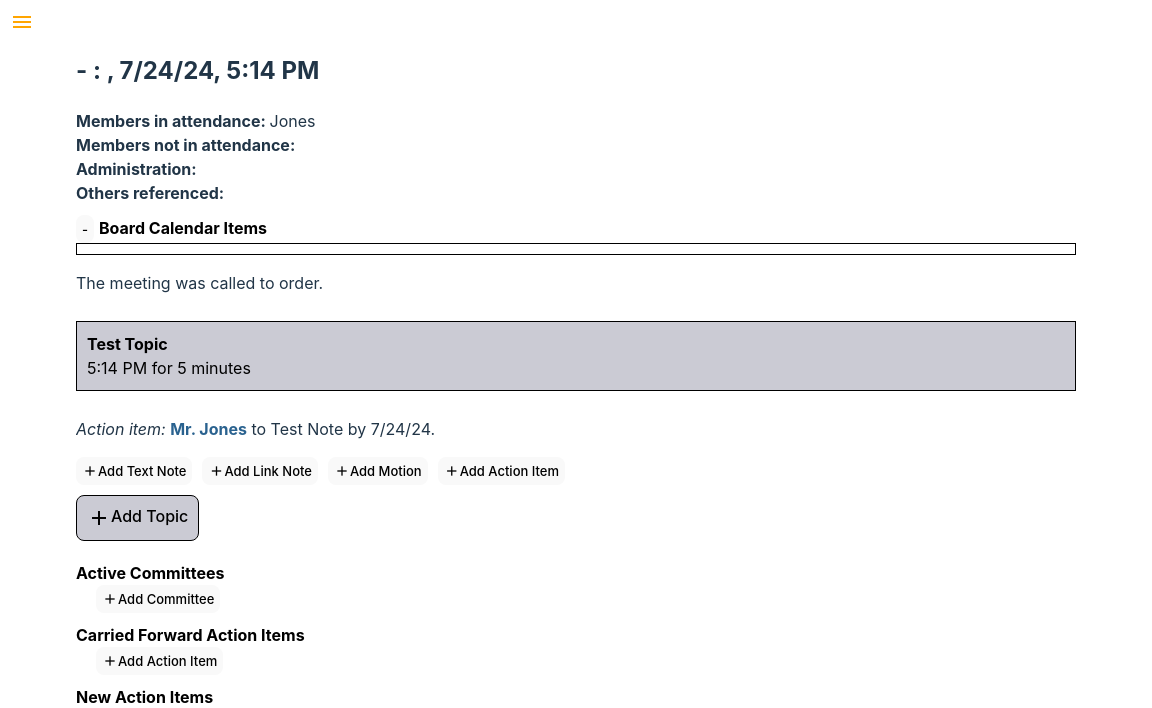
it: attendance › doesn't allow removing members from attendance if they are referenced in a note
Hover over the text "Members in attendance:" at (168, 121), box [76,111,270,131]
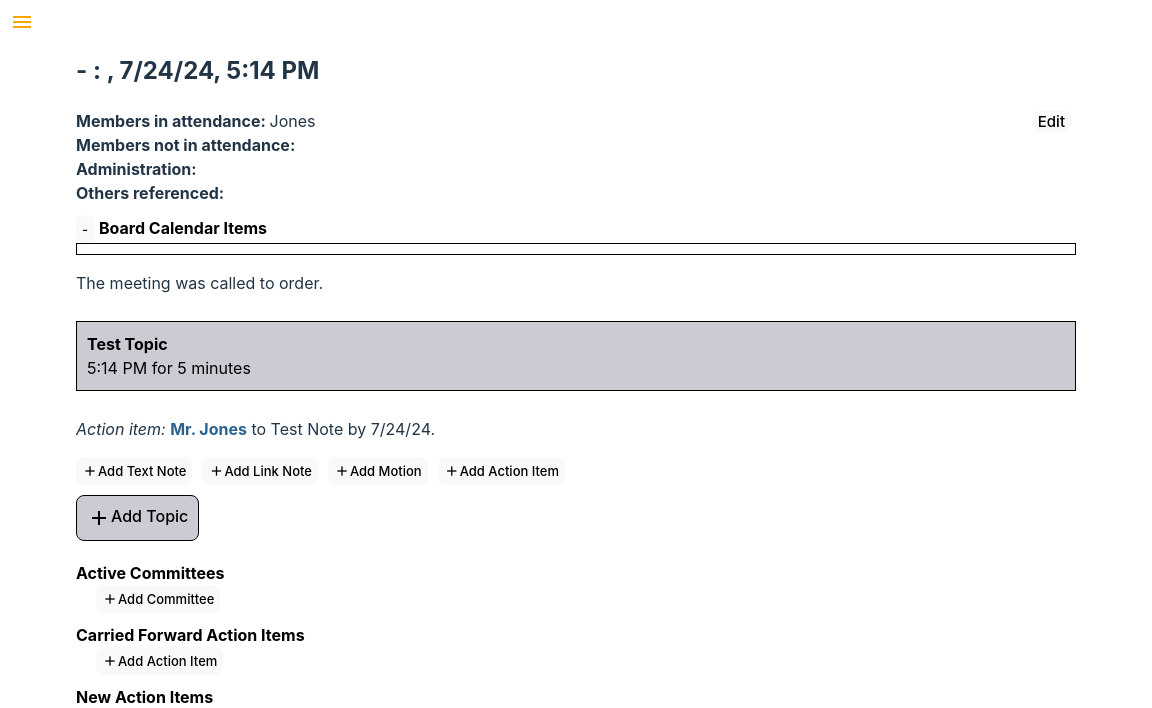
Click the button "Edit" at (1051, 122), box [1032,111,1071,132]
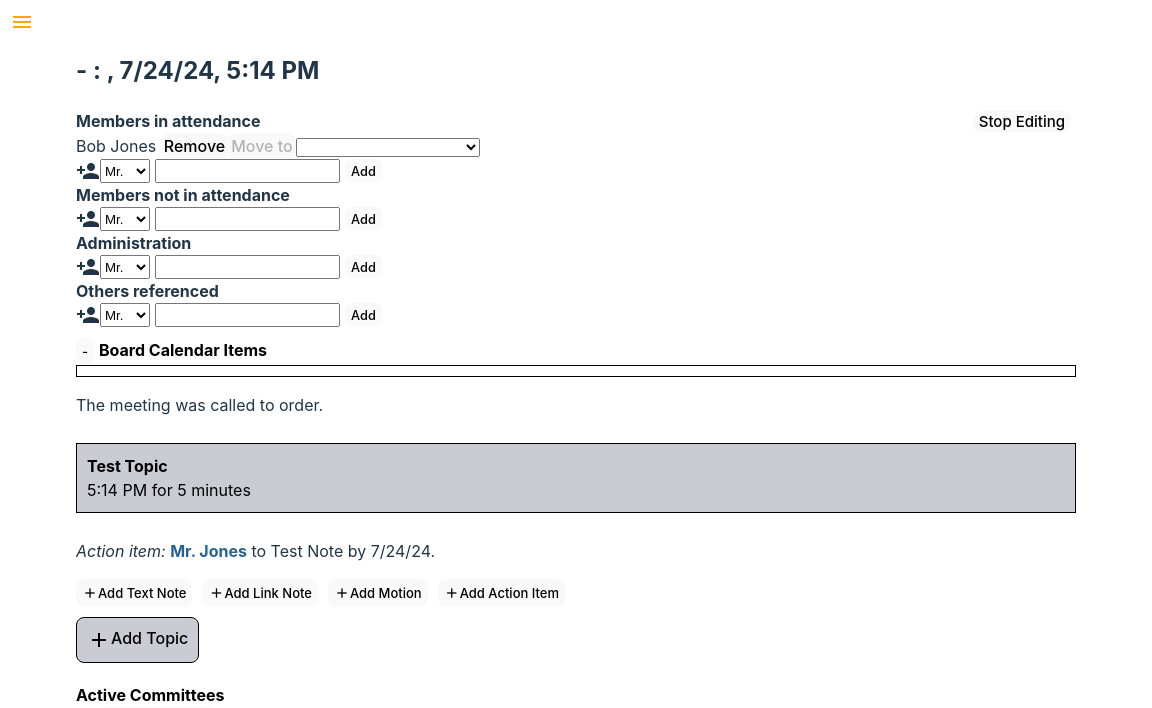
Click the button "Remove" at (194, 146), box [161,133,228,159]
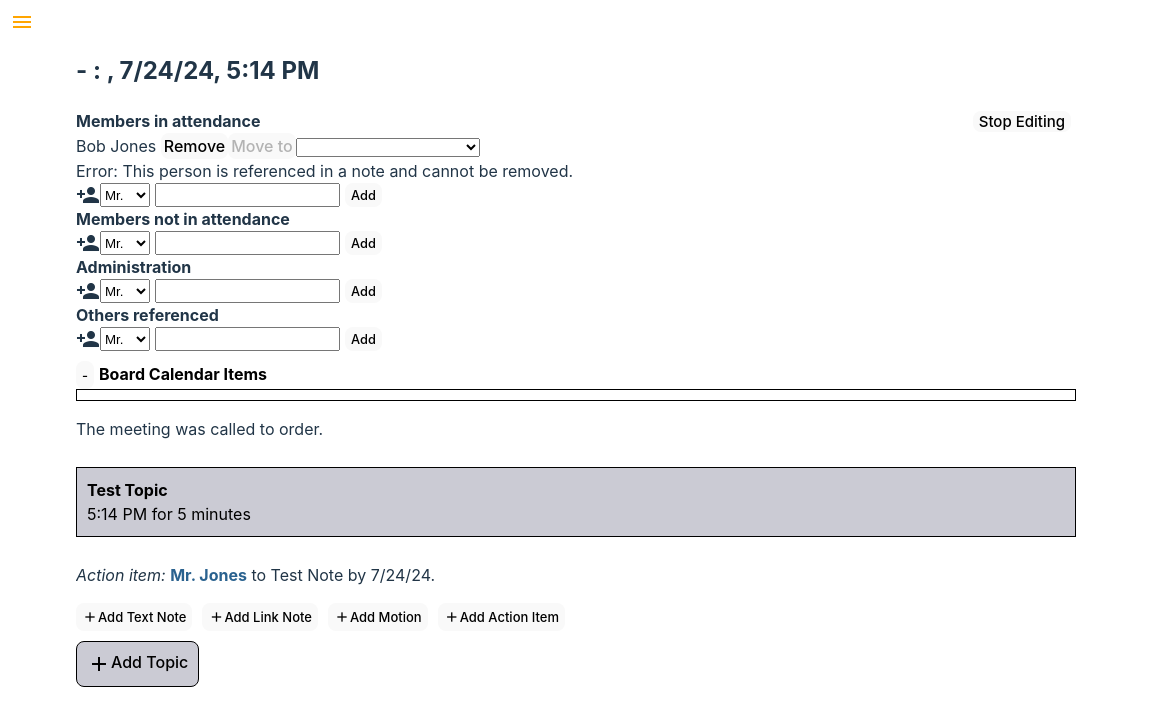
Now the message shows "This person is referenced in a note and cannot be removed.", box [76,161,573,181]
